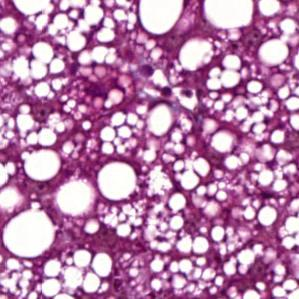steatosis: (5, 213, 55, 260), (98, 163, 141, 200), (29, 153, 64, 184)
